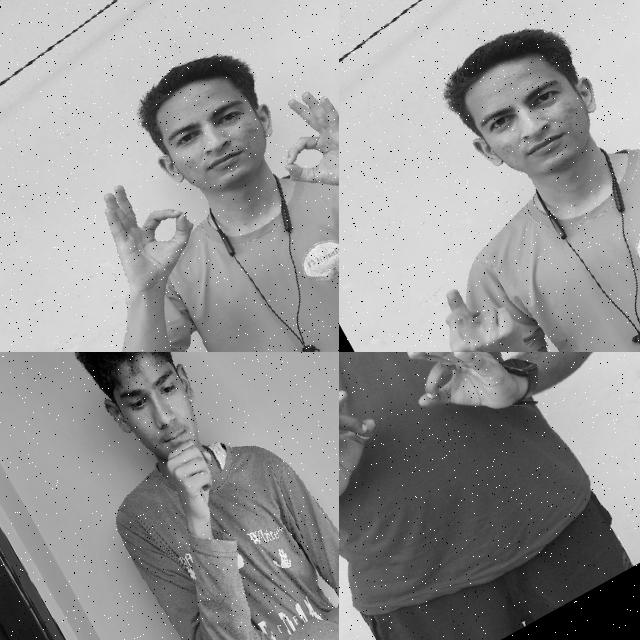Fist Mouth: (53, 352, 276, 547)
Middle Finger: (418, 258, 542, 352)
Okay: (75, 151, 222, 312), (382, 352, 536, 456), (247, 64, 339, 217), (339, 369, 412, 524)
